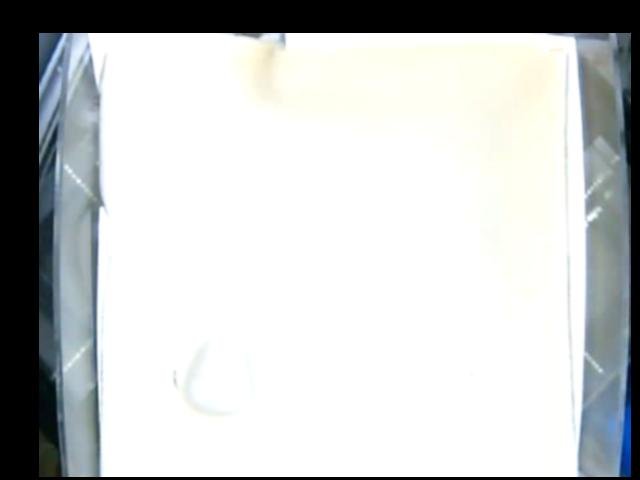Pebble: (187, 336, 250, 412)
